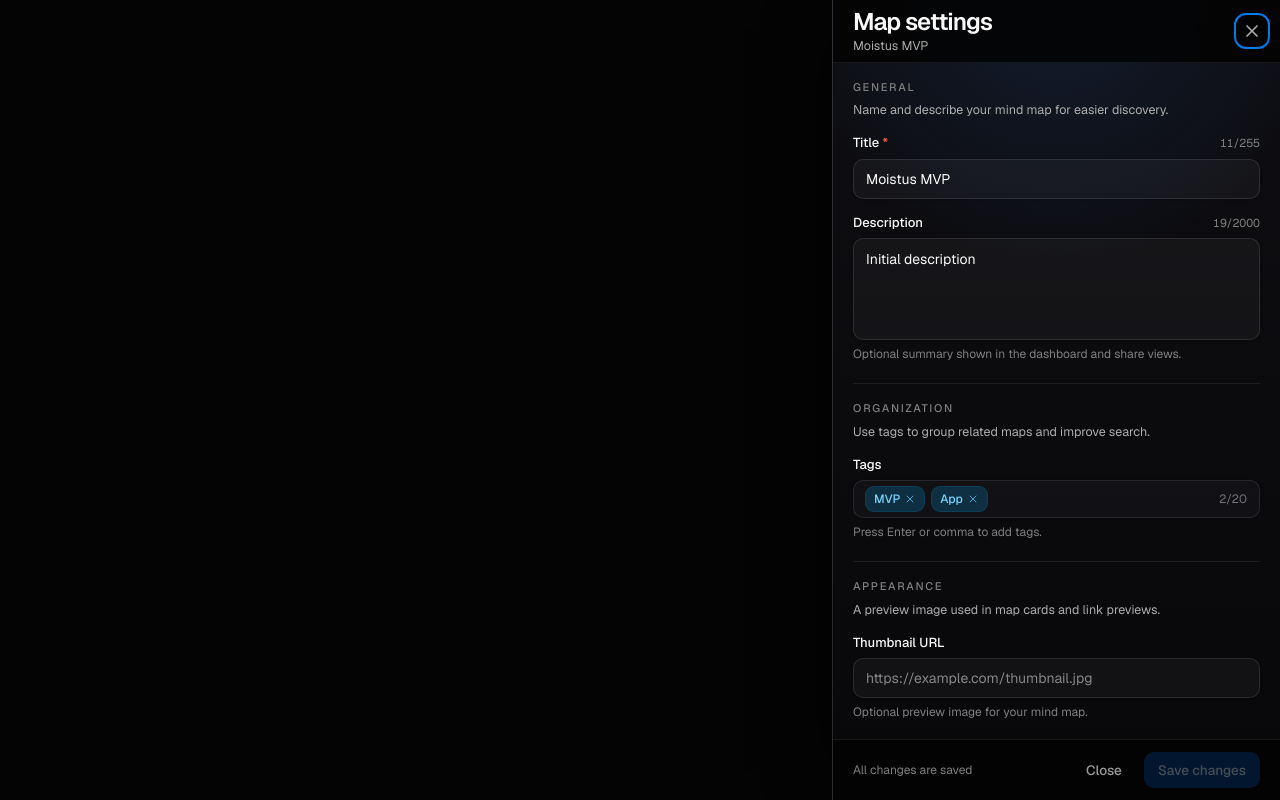
MapSettingsPanel › disables save and shows validation feedback for empty title and invalid thumbnail URL
The image size is (1280, 800).
Clear the field labelled "Title *" at (1056, 179), box [853,159,1260,199]
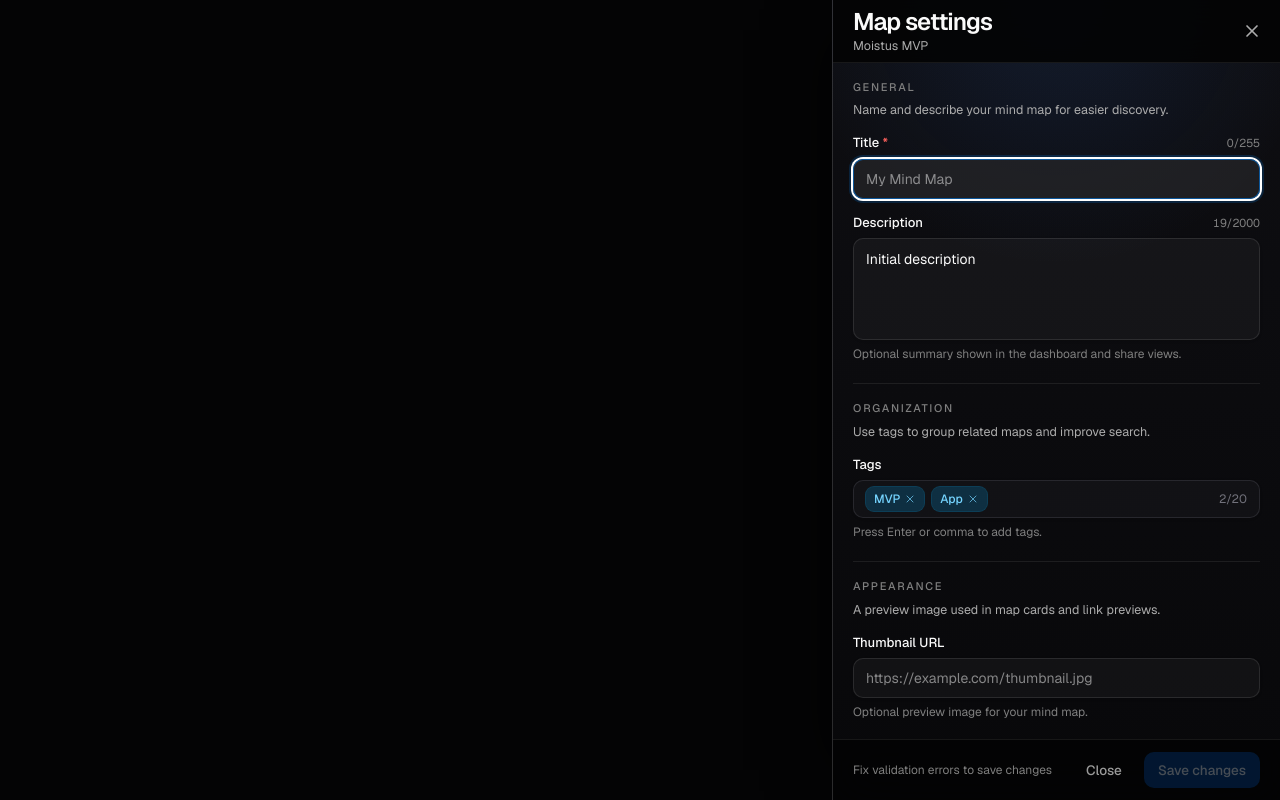
Press Tab
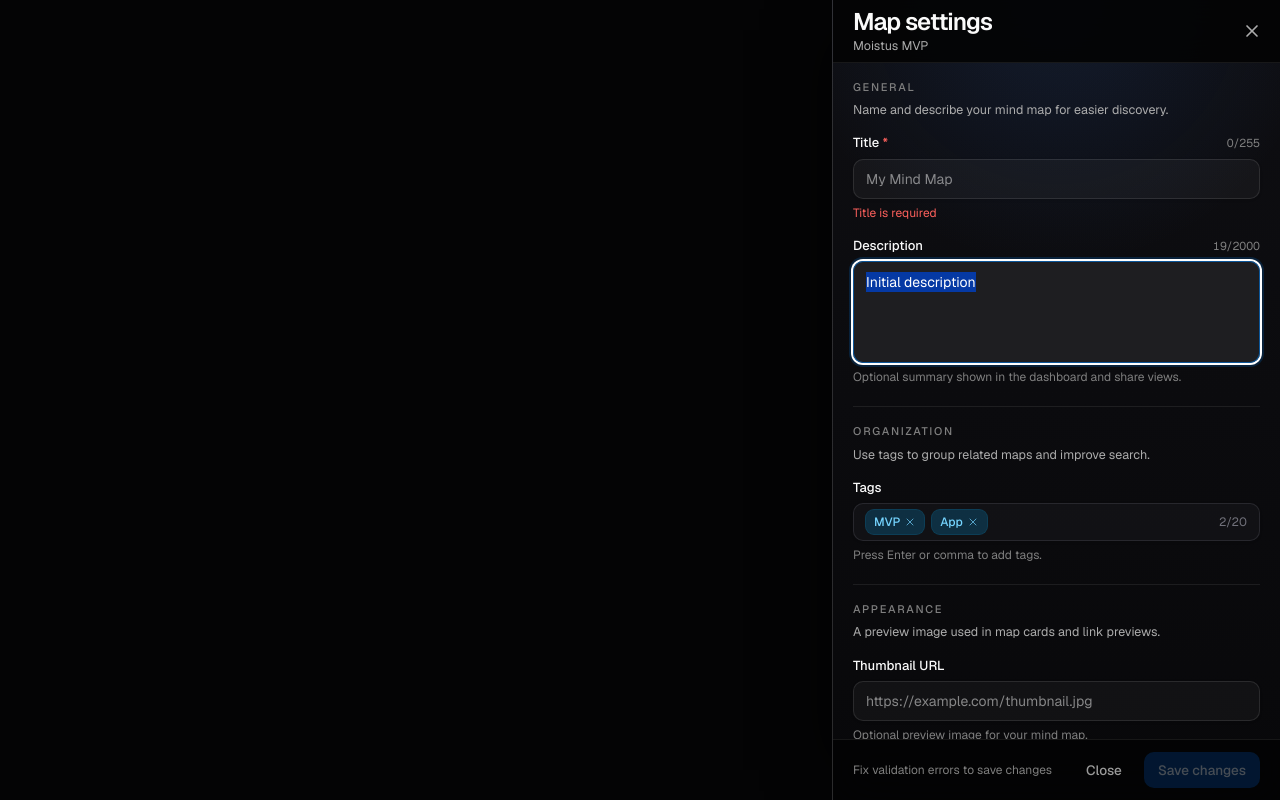
Expected: the button "Save changes" is disabled, [1144,752,1260,788]
Now the text "Title is required" is shown, box [853,205,937,221]
Type "Updated title" into the field labelled "Title *".
click(1056, 179); type("Updated title")  # box [853,159,1260,199]
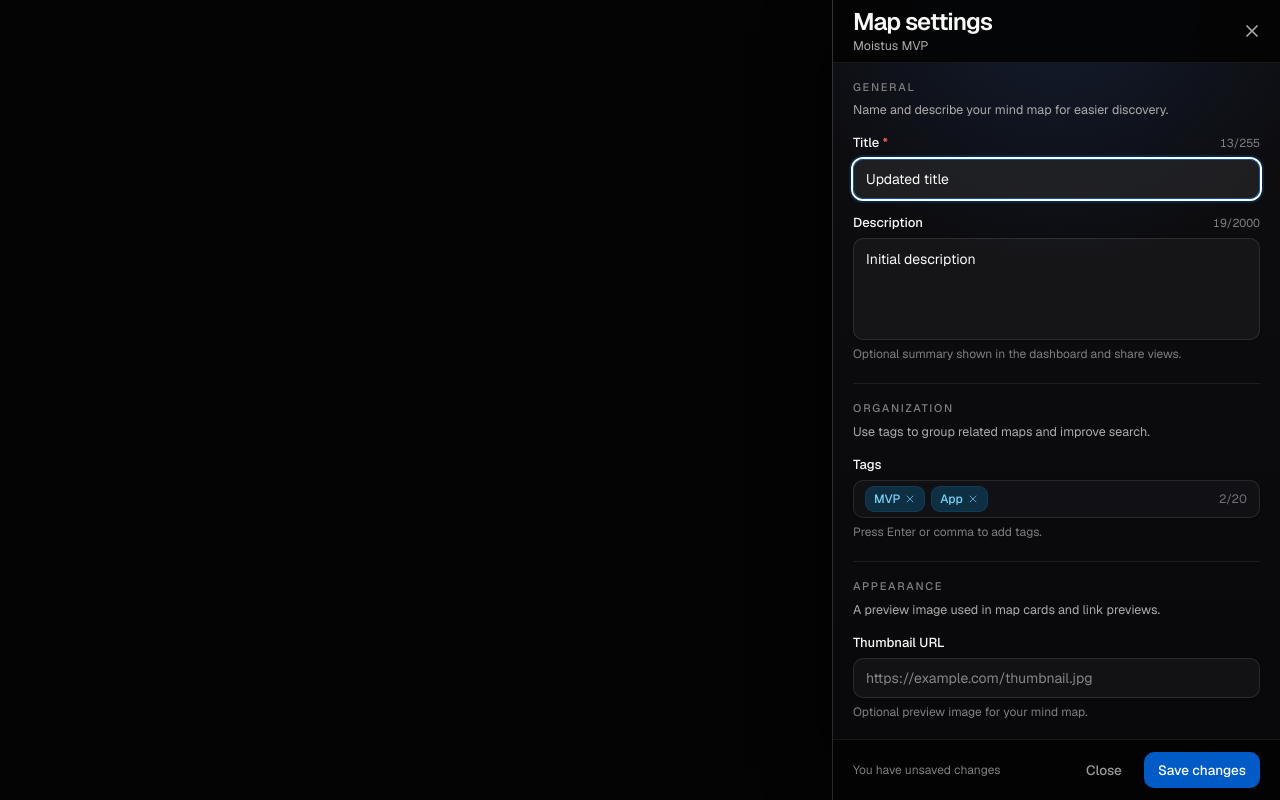
Type "notaurl" into the field labelled "Thumbnail URL".
click(1056, 678); type("notaurl")  # box [853,658,1260,698]
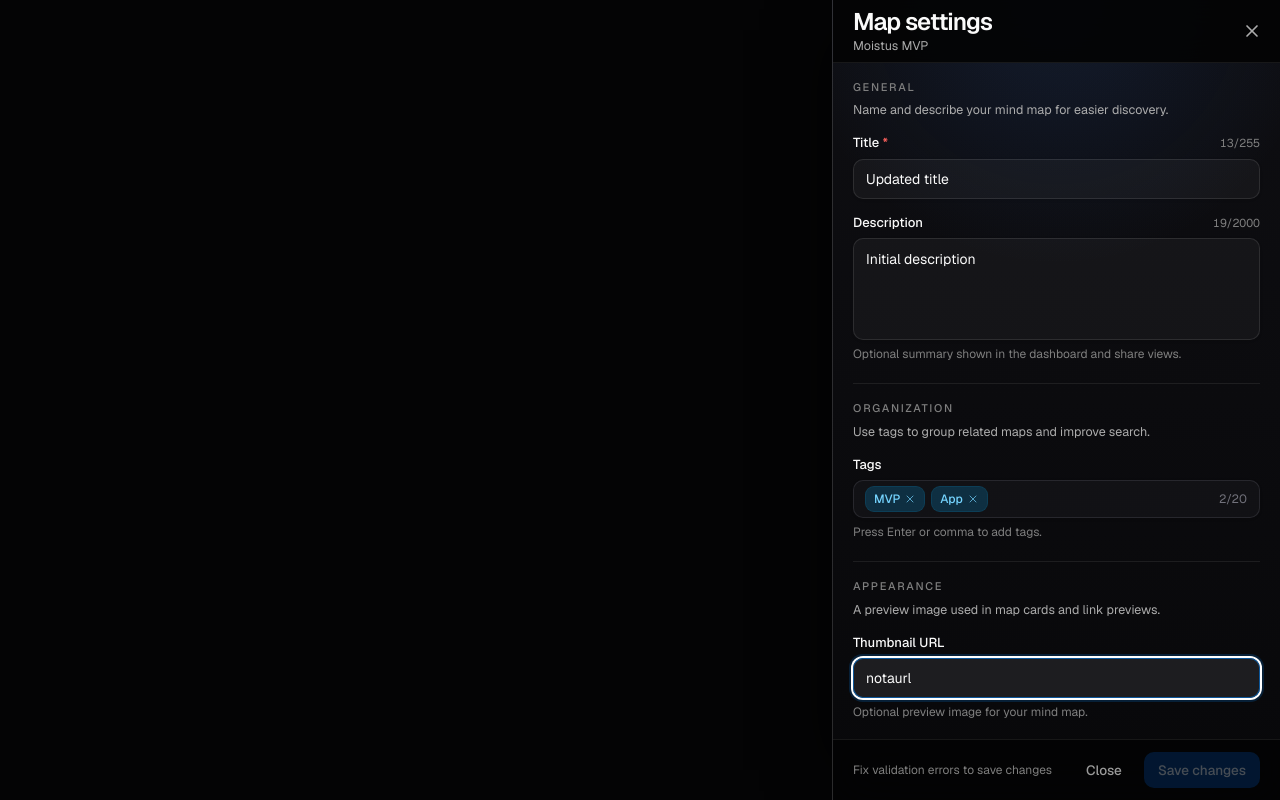
Press Tab
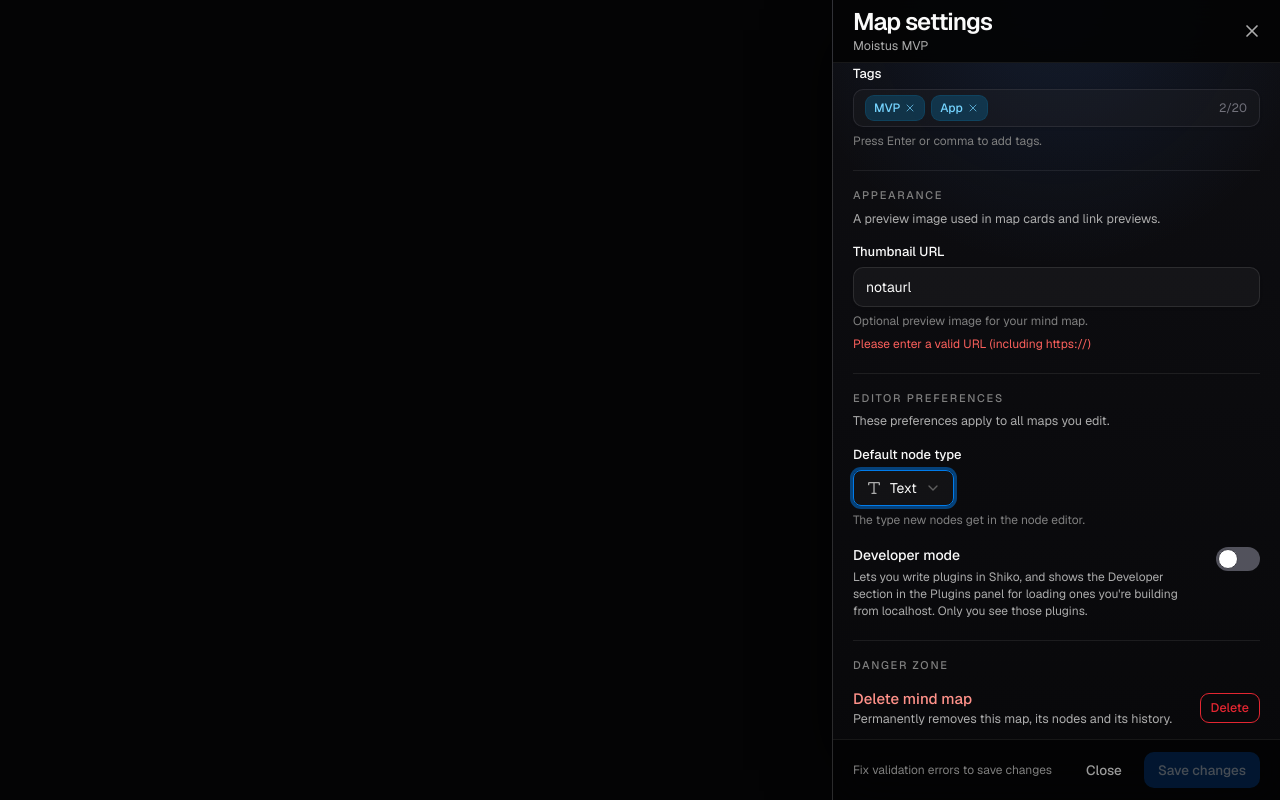
Now the button "Save changes" is disabled, box [1144,752,1260,788]
Now the text "Please enter a valid URL (including https://)" is shown, box [853,336,1091,352]
